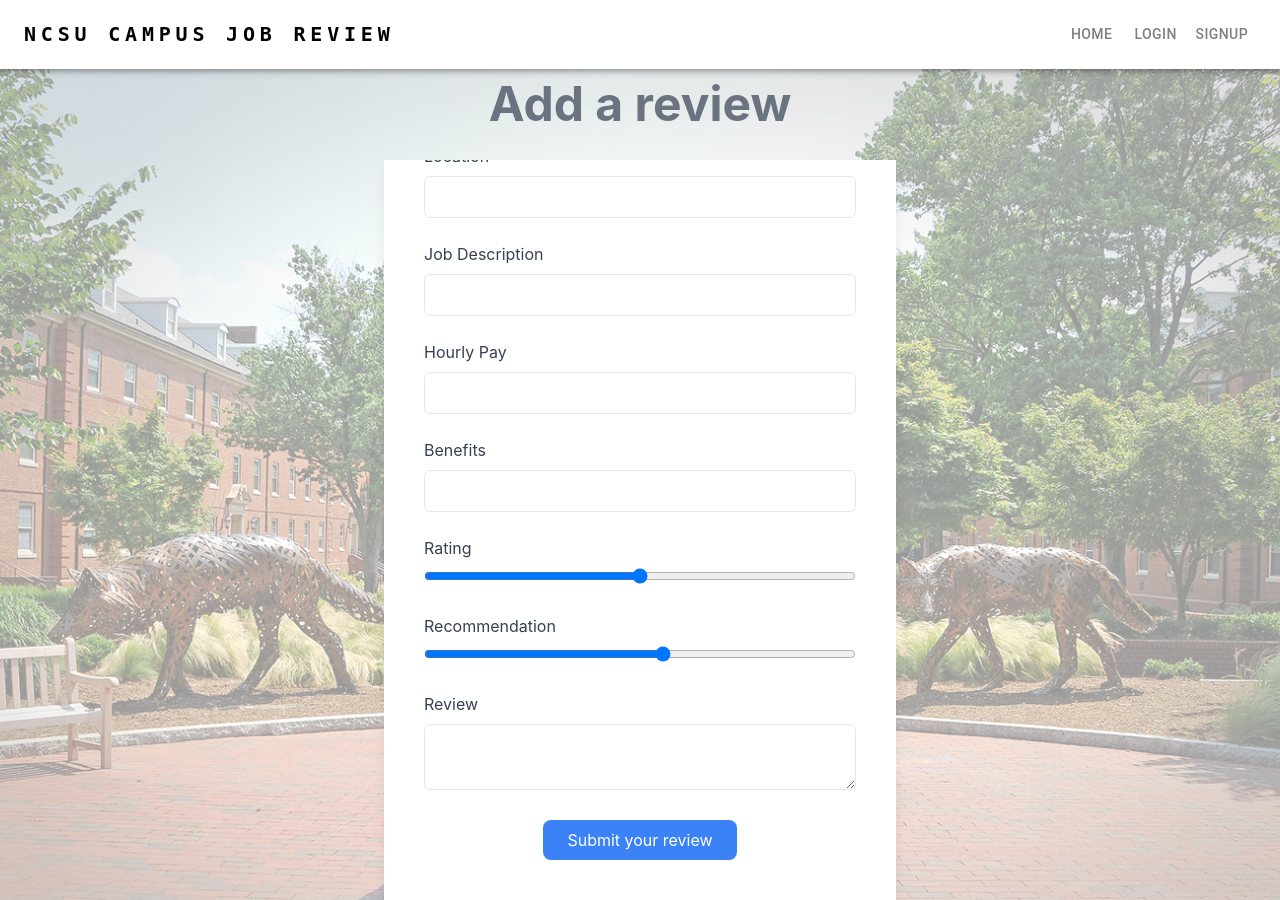
Test: AddReview Component › renders and interacts with the recommendation slider
The width and height of the screenshot is (1280, 900).
(page scrolled)
Simulate changing the slider value
Set the slider labelled "Recommendation" to "7": (709, 654) [424,646,856,662]
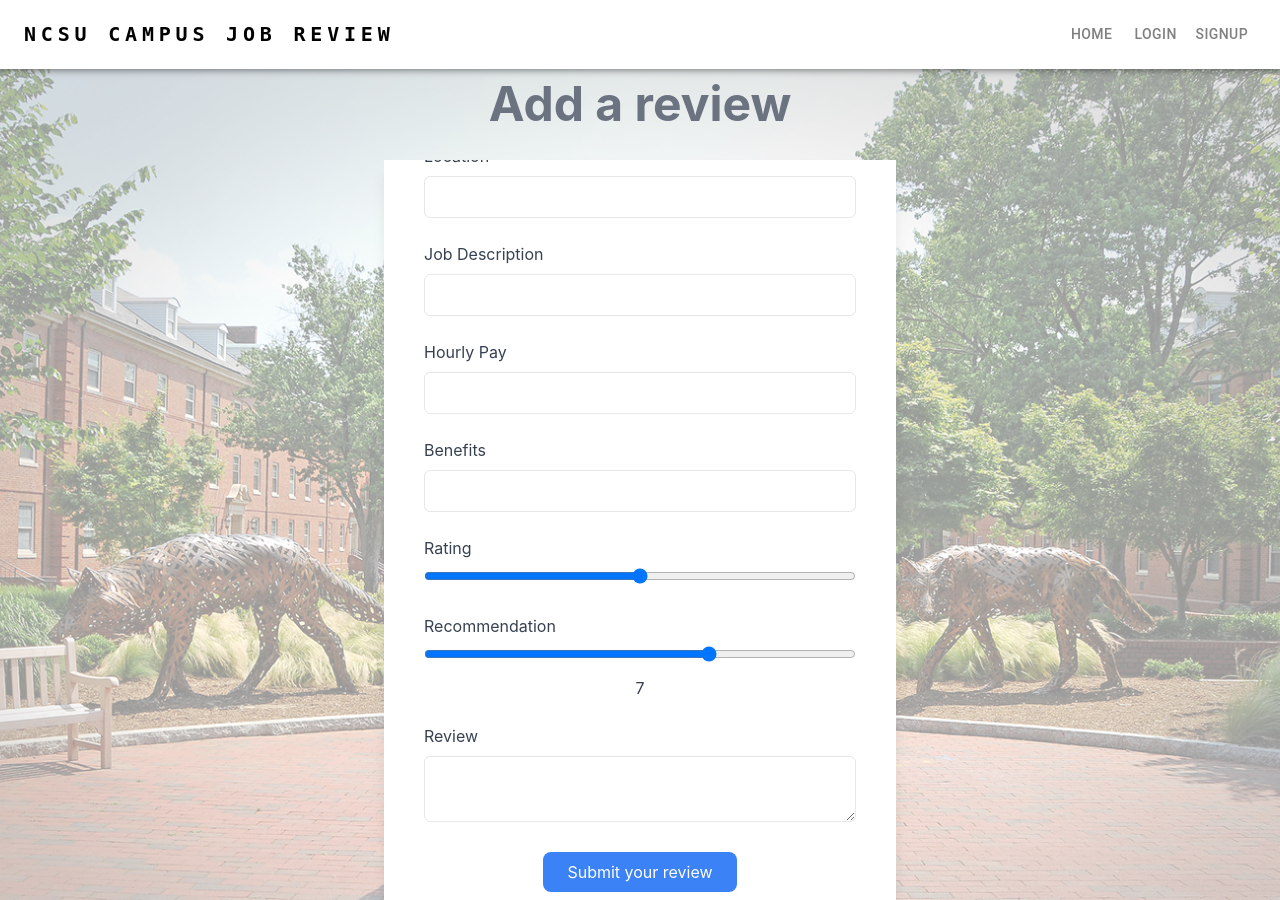
Check: the text "7" is shown, box [636,678,645,698]
